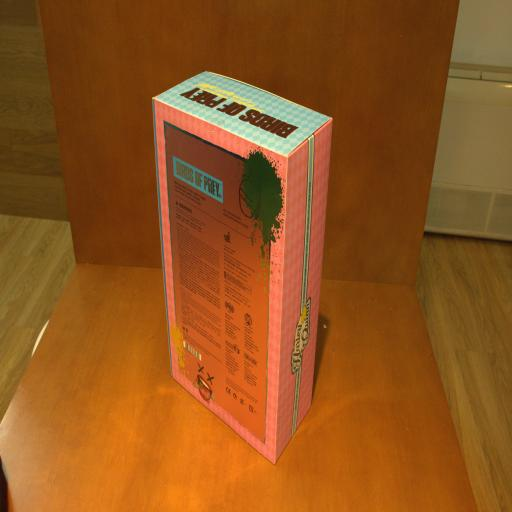Harley: (152, 68, 334, 468)
